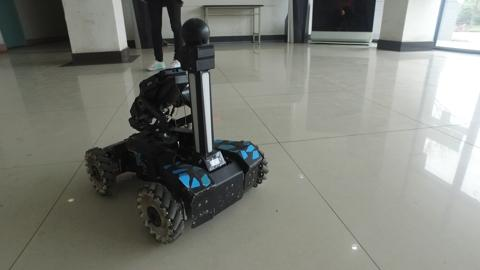chariot: (83, 16, 269, 244)
